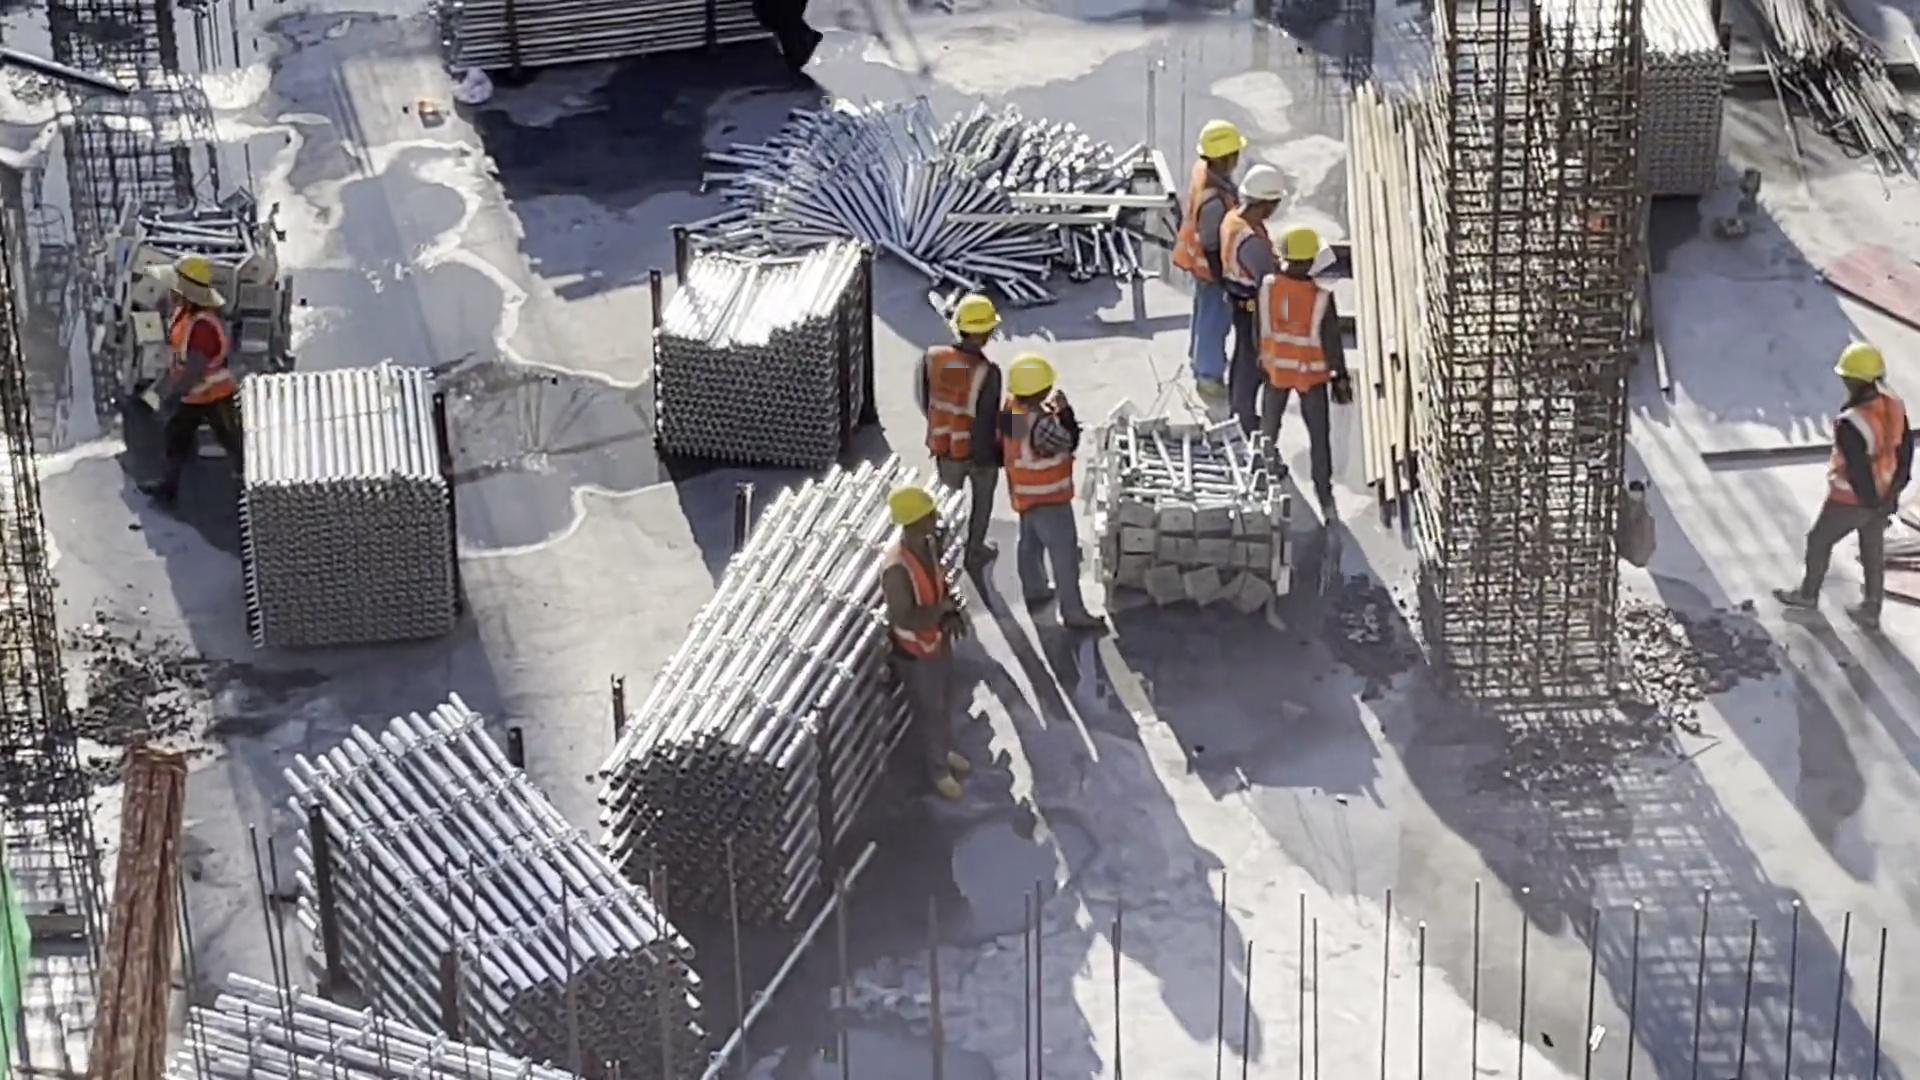helmet: (1008, 357, 1099, 449), (183, 249, 249, 319), (889, 504, 954, 564), (1831, 352, 1906, 401), (973, 299, 1018, 362), (1199, 117, 1246, 176), (1253, 172, 1293, 229), (1281, 229, 1321, 284)
person: (873, 515, 968, 758), (1828, 335, 1896, 625), (1014, 365, 1089, 625), (946, 290, 1006, 563), (181, 260, 249, 488), (1191, 123, 1234, 351), (1278, 225, 1313, 490), (1254, 146, 1274, 376)
rebar: (1766, 1, 1920, 170)
scaffold: (256, 734, 683, 1032), (674, 477, 949, 819), (129, 966, 635, 1080), (261, 371, 454, 621), (1533, 1, 1706, 204), (654, 264, 841, 437)
vest: (913, 489, 966, 647), (1256, 282, 1319, 389), (1843, 406, 1901, 511), (1026, 421, 1088, 509), (183, 324, 243, 409), (951, 372, 1006, 447), (1226, 206, 1251, 287), (1189, 209, 1218, 272)
